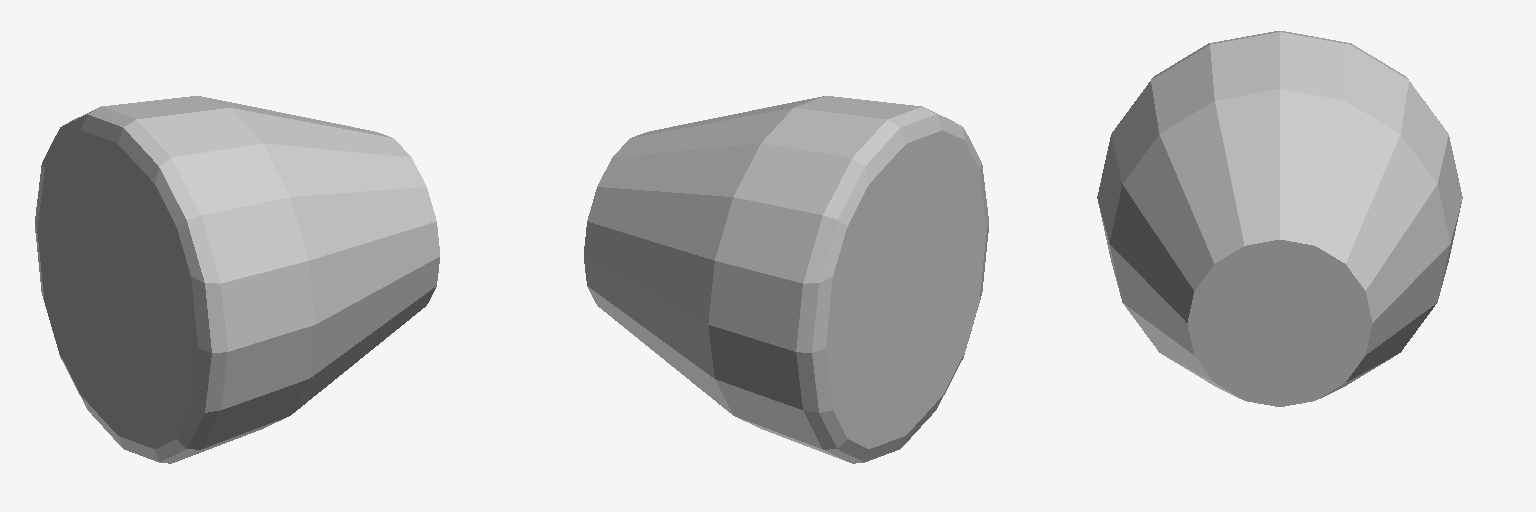
Rendered from SnekBodyblueLP.obj.
The picture shows the model from 3 angles: view 1: azimuth 30°, elevation 25°; view 2: azimuth 150°, elevation 25°; view 3: azimuth 270°, elevation 25°; orthographic projection.
Visible parts, largest first — view 1: SegmentBlueLP; view 2: SegmentBlueLP; view 3: SegmentBlueLP.
Part boxes in pixels (left/top/right/bottom): SegmentBlueLP: left=35, top=96, right=439, bottom=463; SegmentBlueLP: left=584, top=96, right=988, bottom=463; SegmentBlueLP: left=1097, top=31, right=1462, bottom=406.
Size of the model in its own units: 0.2791 by 0.3198 by 0.3198.